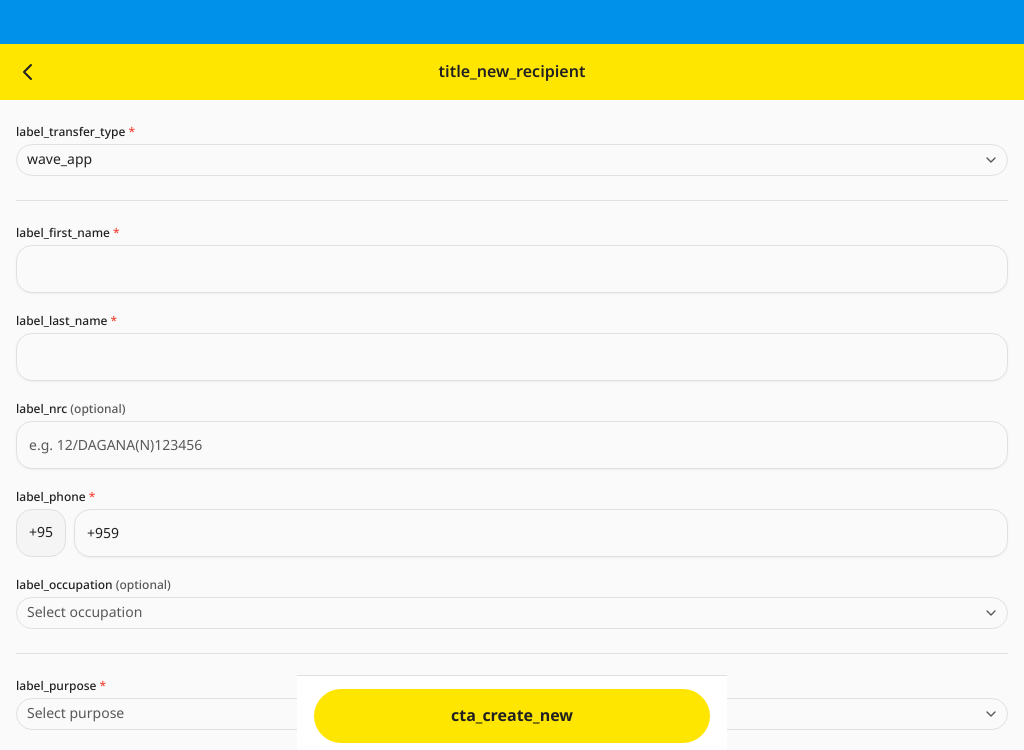
NewRecipientPage › shows phone validation error for invalid Myanmar phone number
# Fill first_name and last_name to isolate phone error
In the field labelled "label_first_name *": [512, 269] box [16, 245, 1008, 293], type "Aung"
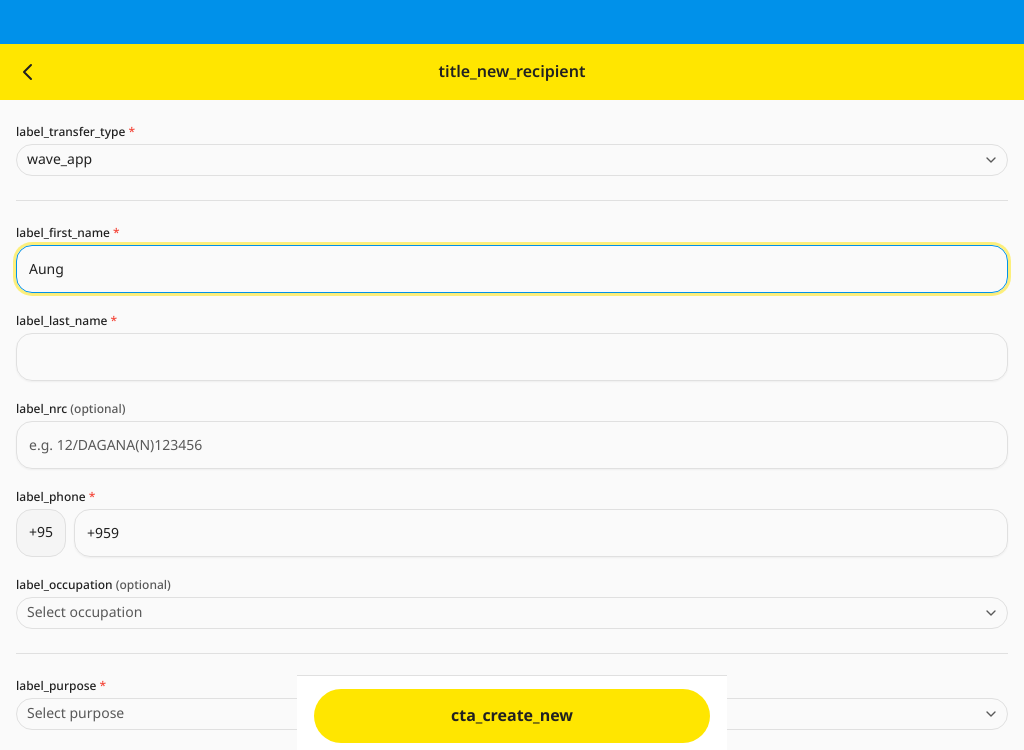
In the field labelled "label_last_name *": [512, 357] box [16, 333, 1008, 381], type "Kyaw"
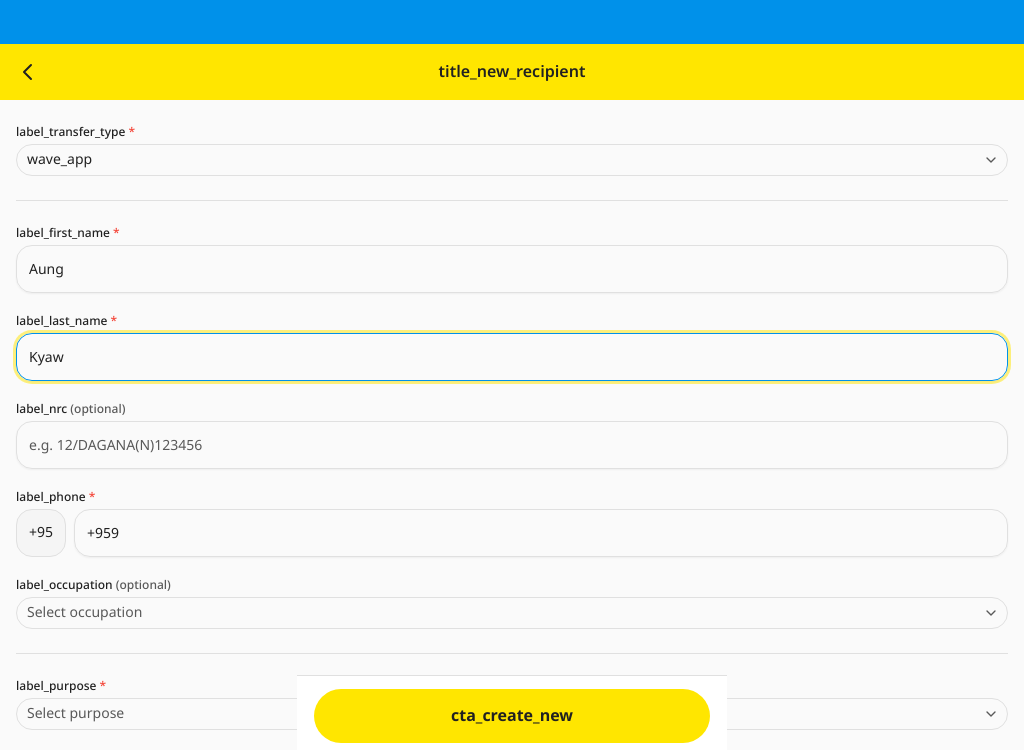
# Enter invalid phone
Replace the text in the field labelled "label_phone *" with "+959123": [541, 533] box [74, 509, 1008, 557]
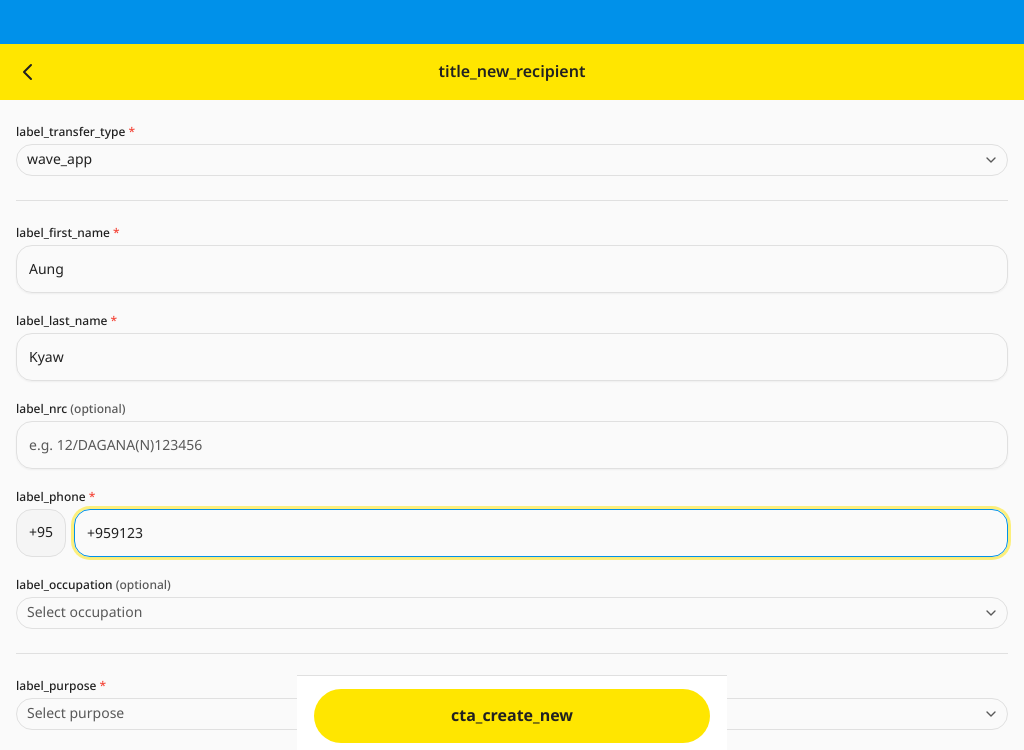
Click the button "cta_create_new": [512, 716] box [313, 688, 711, 744]
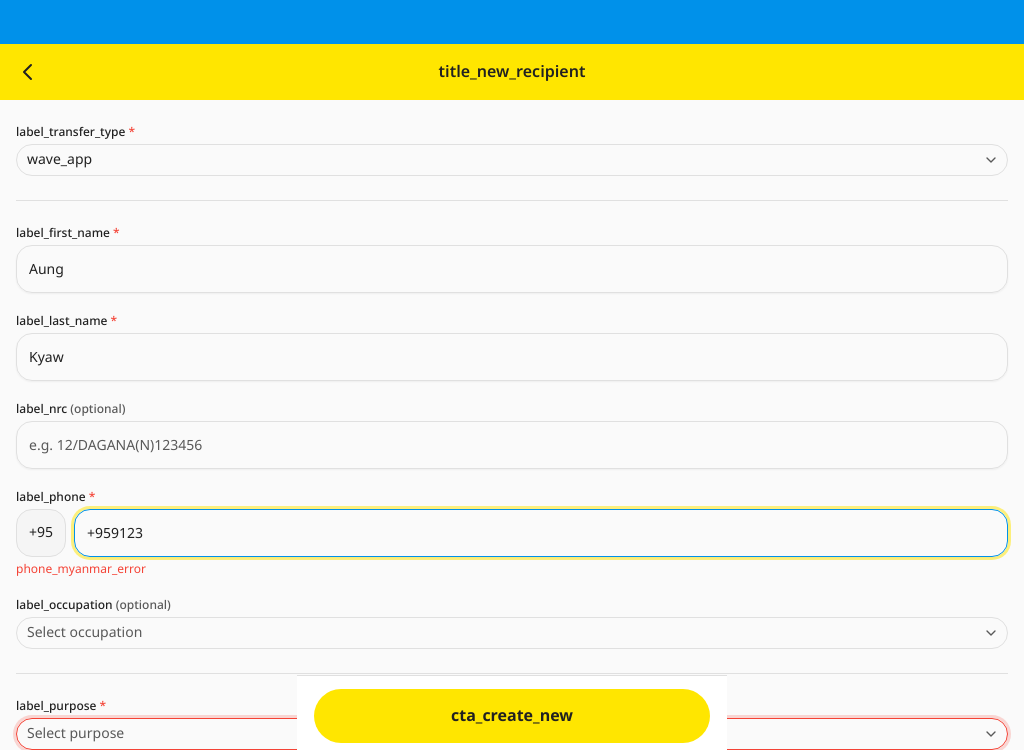
Now the text "phone_myanmar_error" is shown, box [16, 560, 146, 578]
